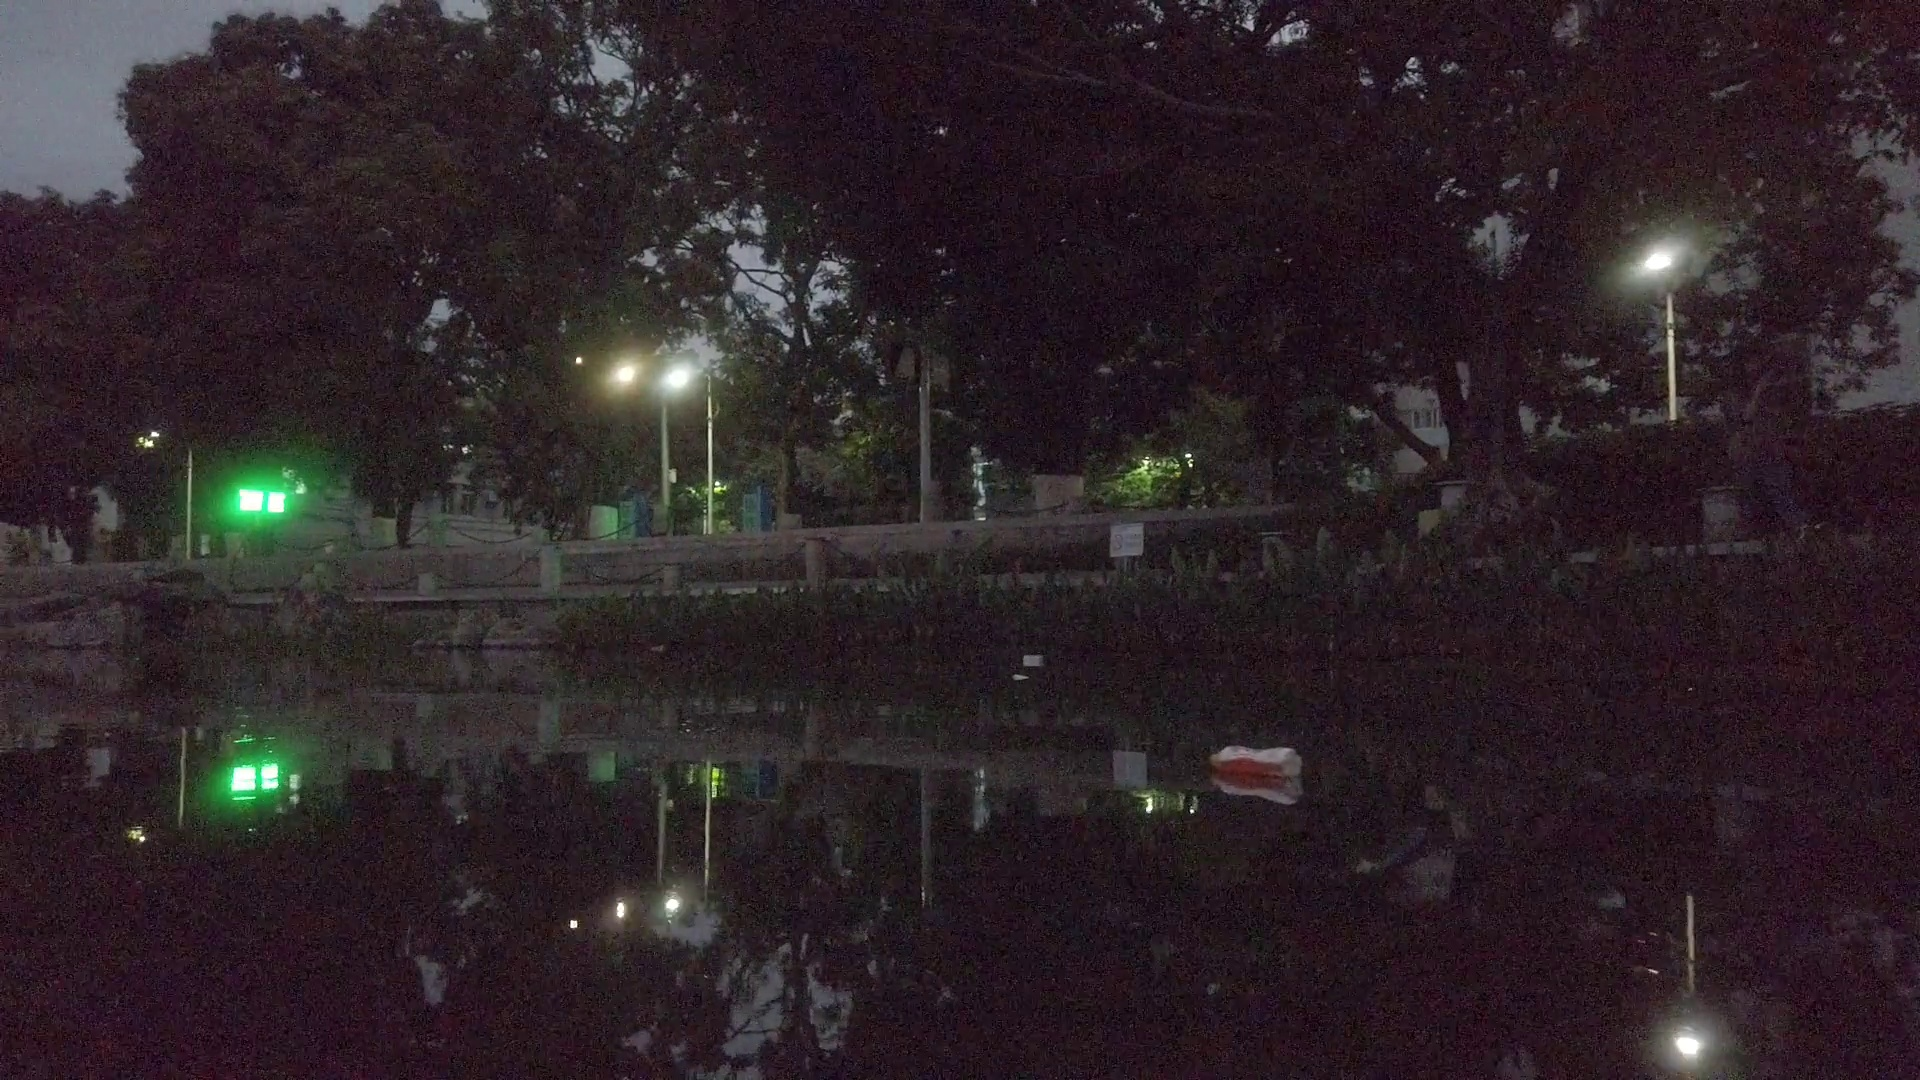bottle: (1211, 741, 1304, 781)
carton: (1025, 655, 1043, 665)
paper: (1013, 669, 1027, 682)
